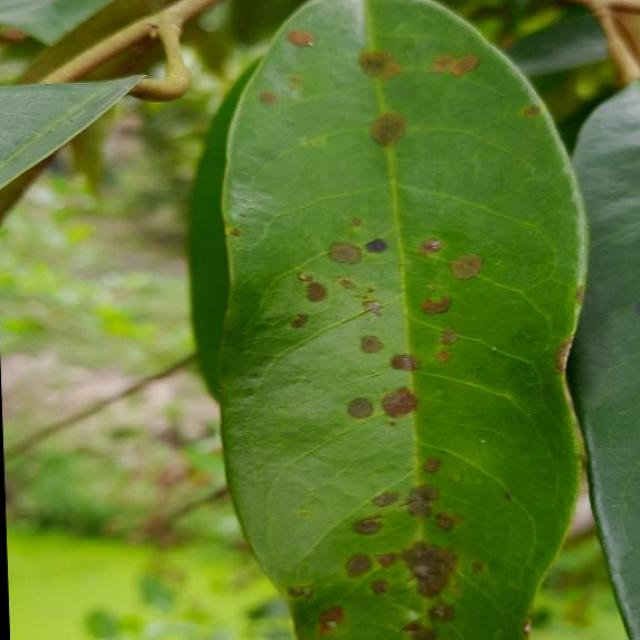Algal Leaf Spot: (196, 0, 604, 640)
